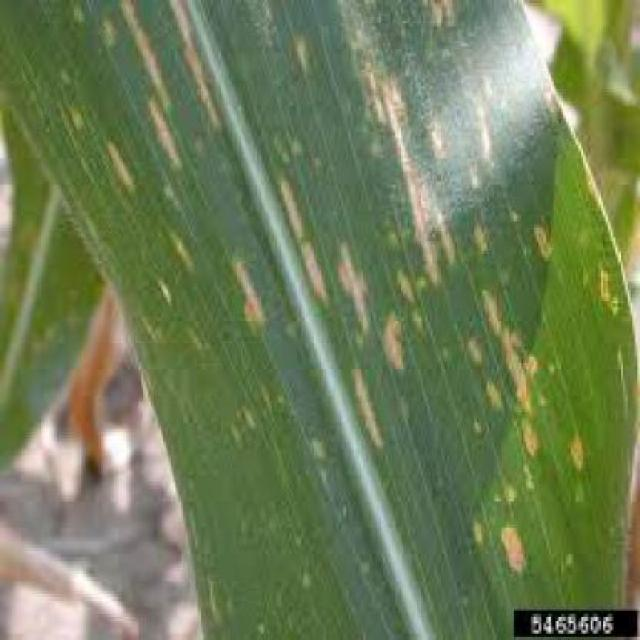Corn_Grey_Leaf_Spot: (27, 0, 640, 591)
